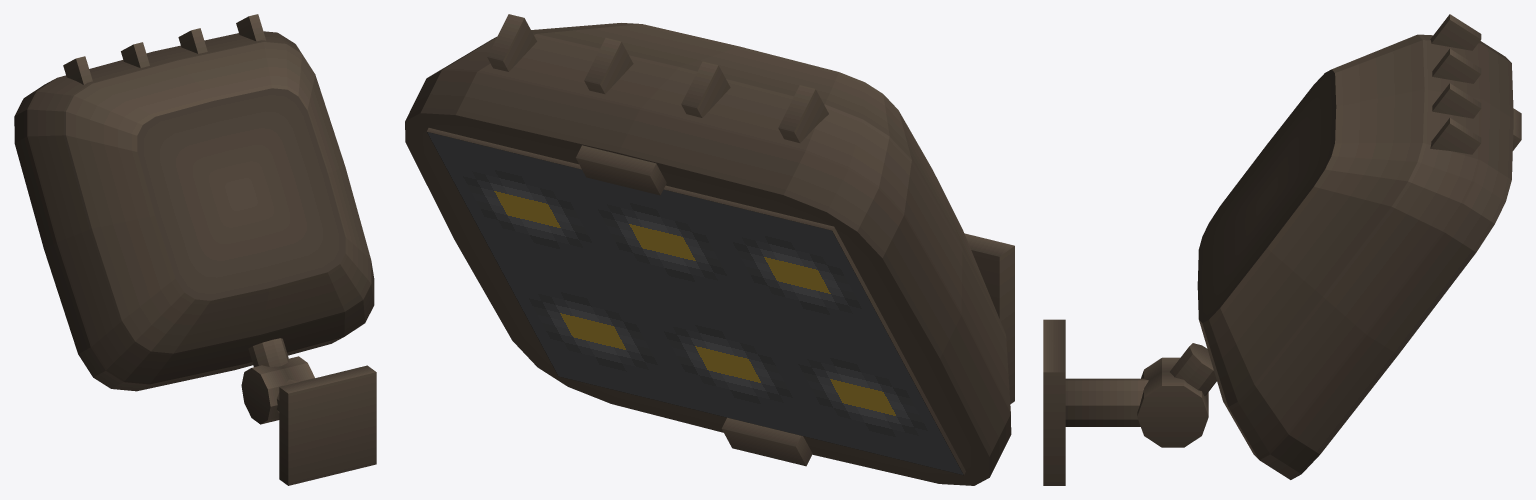
The model's file is floodlight_lithtflkn.obj.
3 renders of one model, left to right at view 1: azimuth 30°, elevation 25°; view 2: azimuth 150°, elevation 25°; view 3: azimuth 270°, elevation 25°, orthographic. The views are drawn at different scales.
Visible parts, largest first — view 1: fixture; view 2: fixture; view 3: fixture.
Part boxes in pixels (box(x1,y1,x2,y2)): fixture: box(14, 14, 376, 485); fixture: box(405, 14, 1014, 485); fixture: box(1043, 14, 1521, 485).
Bounding box in the file's own units: 0.5714 × 0.6025 × 0.6684.
